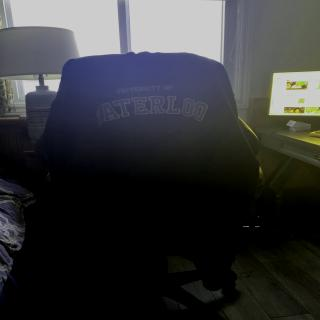Waterloo Hoodie: (45, 58, 251, 287)
